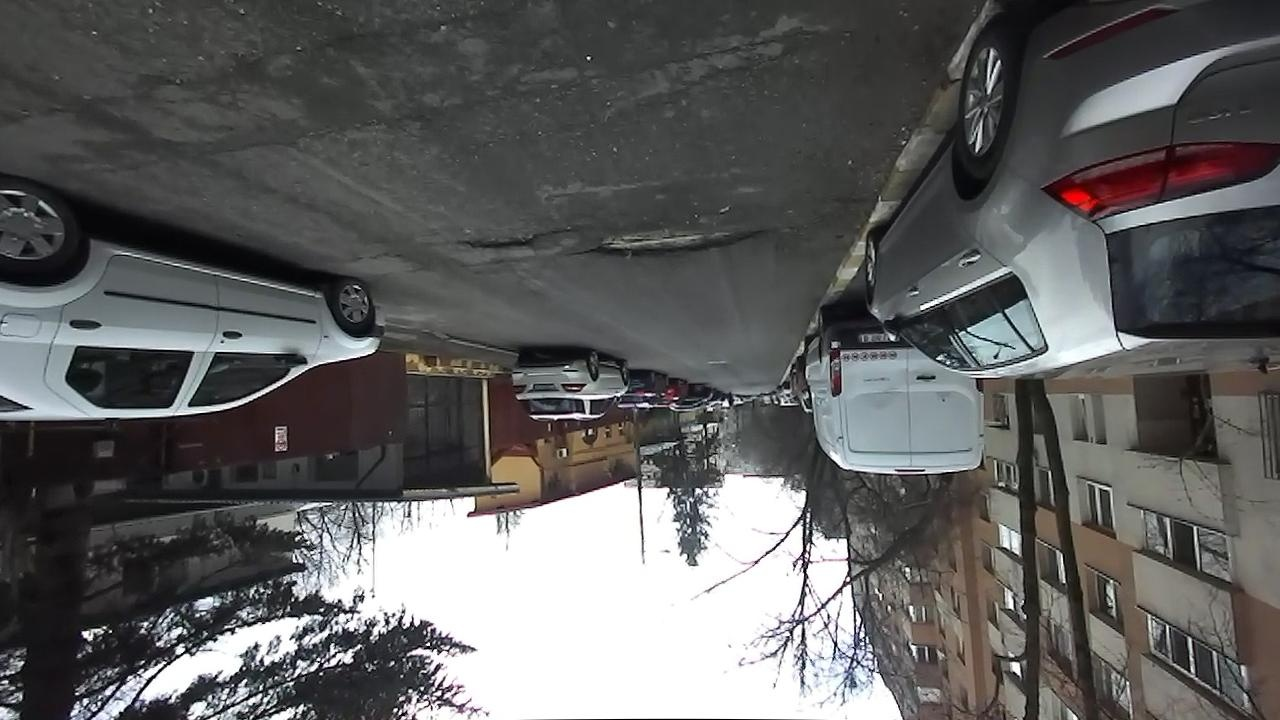pothole: (577, 222, 774, 262), (455, 222, 564, 253)
